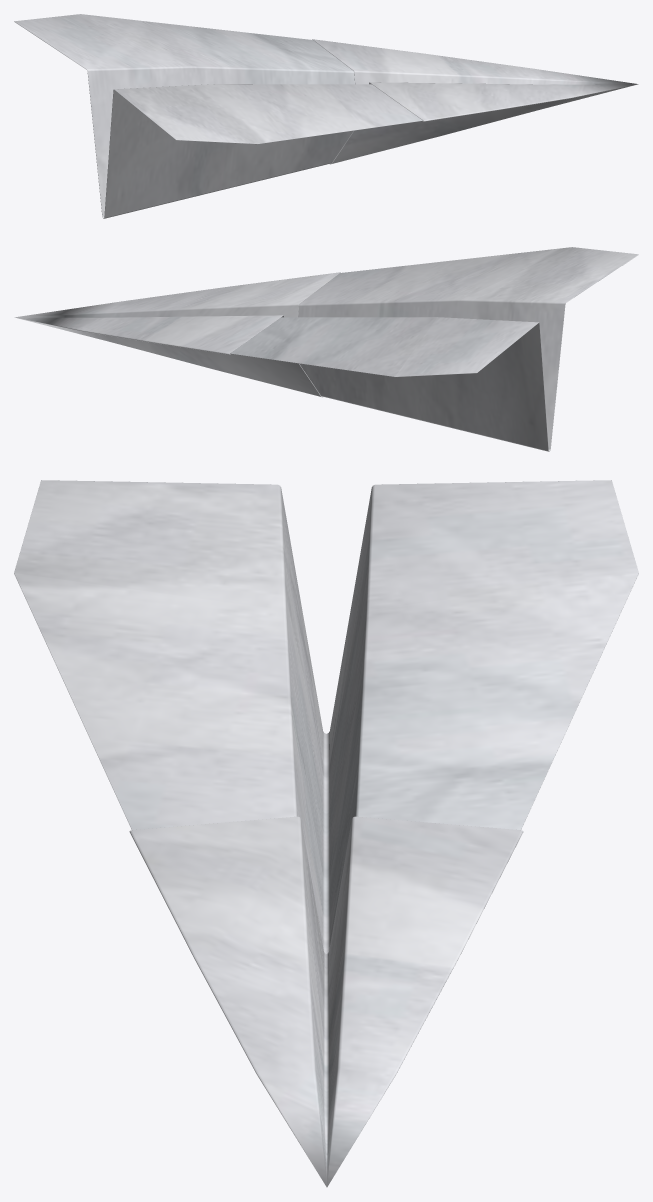
The model's file is paper-plane.glb.
3 views of the same model, one above another, from view 1: azimuth 30°, elevation 25°; view 2: azimuth 150°, elevation 25°; view 3: azimuth 270°, elevation 25° (orthographic). The views are drawn at different scales.
Parts seen in each view (by area): view 1: Origami_Airplane; view 2: Origami_Airplane; view 3: Origami_Airplane.
Part boxes in pixels (x1,y1,x2,y2): Origami_Airplane: (14, 14, 638, 218); Origami_Airplane: (14, 247, 638, 451); Origami_Airplane: (14, 480, 638, 1187).
Bounding box in the file's own units: 0.2673 × 0.0661 × 0.151.
Materials: 1 (1 with a texture image).
